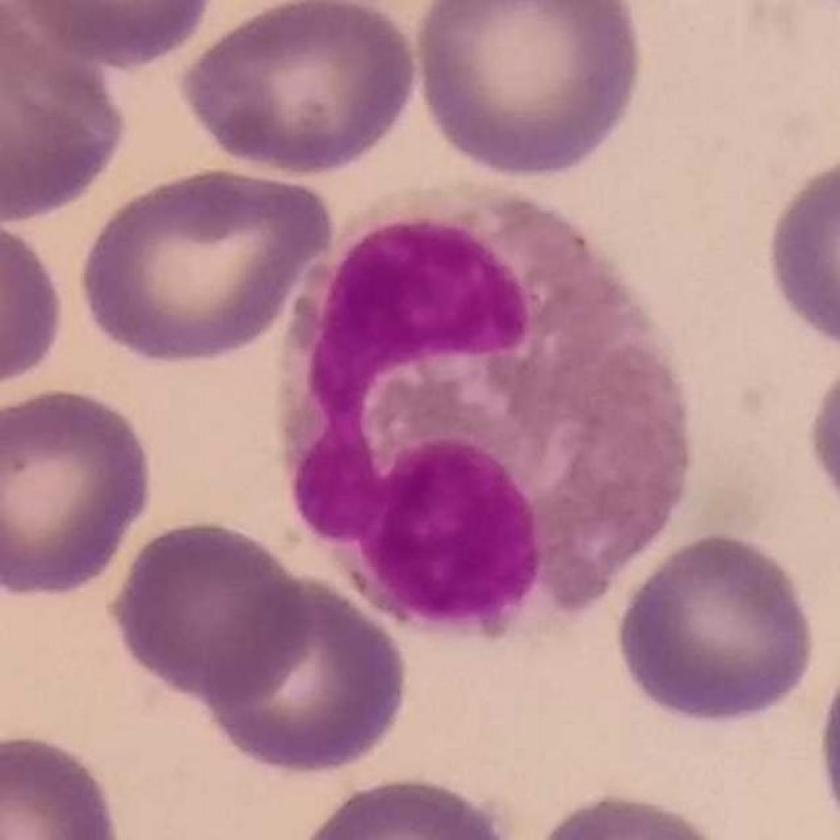eosinophil: (272, 170, 705, 647)
